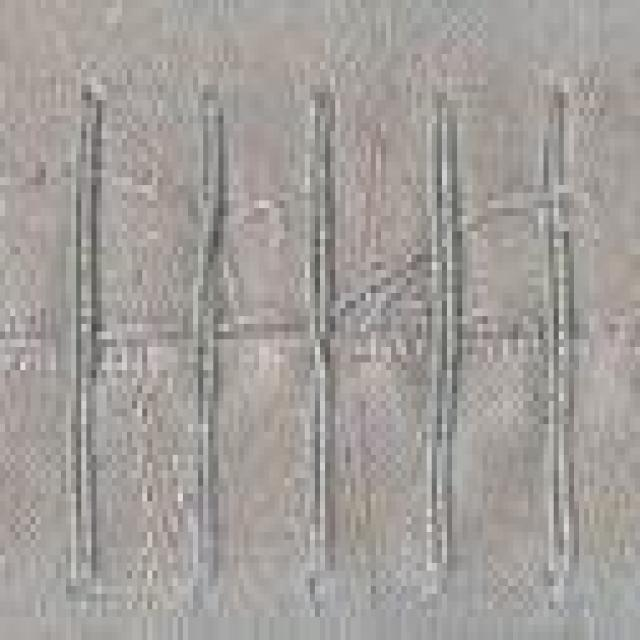gray stitch: (58, 73, 587, 590)
